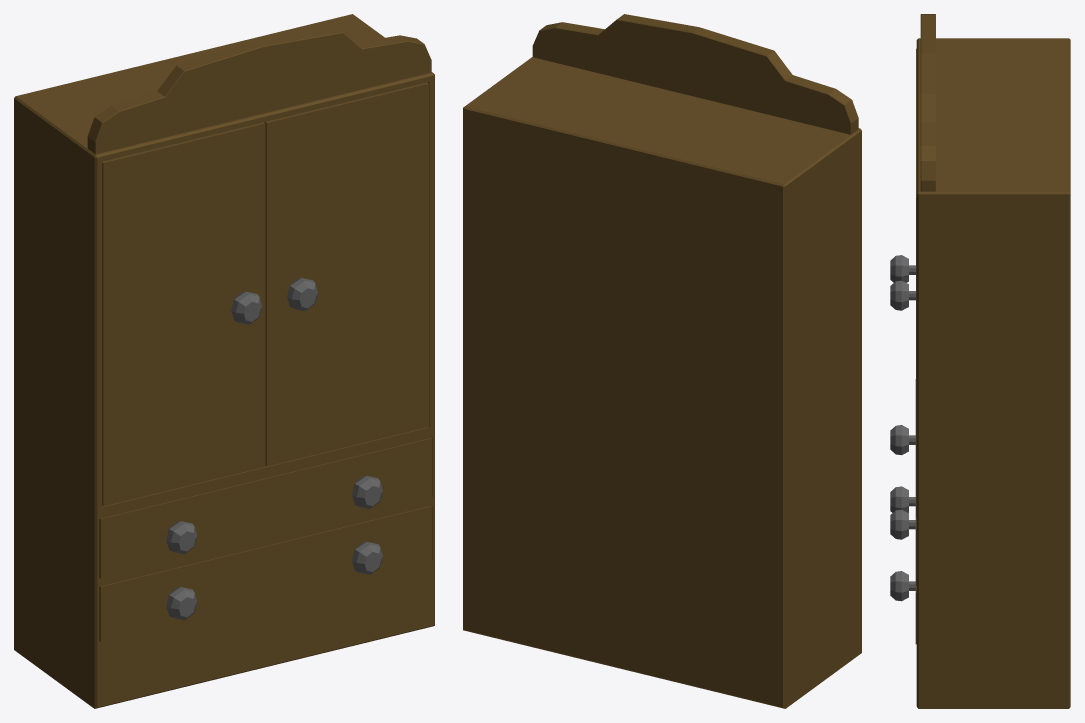
File: SmallWardrobe1.glb
3 renders of one model, left to right at view 1: azimuth 30°, elevation 25°; view 2: azimuth 150°, elevation 25°; view 3: azimuth 270°, elevation 25°, orthographic. The views are drawn at different scales.
Parts seen in each view (by area): view 1: SmallWardrobe1, DoorRIght1_SmallWardrobe1, DoorLeft1_SmallWardrobe1, Drawer1_SmallWardrobe1, Drawer2_SmallWardrobe1; view 2: SmallWardrobe1; view 3: SmallWardrobe1, Drawer1_SmallWardrobe1, Drawer2_SmallWardrobe1, DoorLeft1_SmallWardrobe1, DoorRIght1_SmallWardrobe1.
Boxes of the visible parts, box(x1,y1,x2,y2) form: SmallWardrobe1: box(14, 14, 434, 708); DoorRIght1_SmallWardrobe1: box(102, 122, 265, 506); DoorLeft1_SmallWardrobe1: box(264, 82, 428, 466); Drawer1_SmallWardrobe1: box(99, 438, 431, 578); Drawer2_SmallWardrobe1: box(99, 506, 431, 641); SmallWardrobe1: box(463, 14, 861, 708); SmallWardrobe1: box(916, 14, 1070, 708); Drawer1_SmallWardrobe1: box(890, 379, 916, 585); Drawer2_SmallWardrobe1: box(890, 486, 916, 644); DoorLeft1_SmallWardrobe1: box(890, 123, 916, 517); DoorRIght1_SmallWardrobe1: box(890, 48, 916, 282).
Bounding box in the file's own units: 1.26 × 2.19 × 0.6188.
